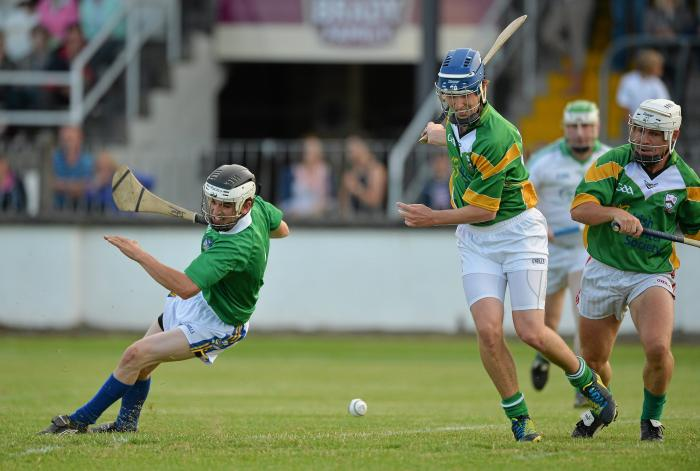hurley: (107, 162, 209, 225)
